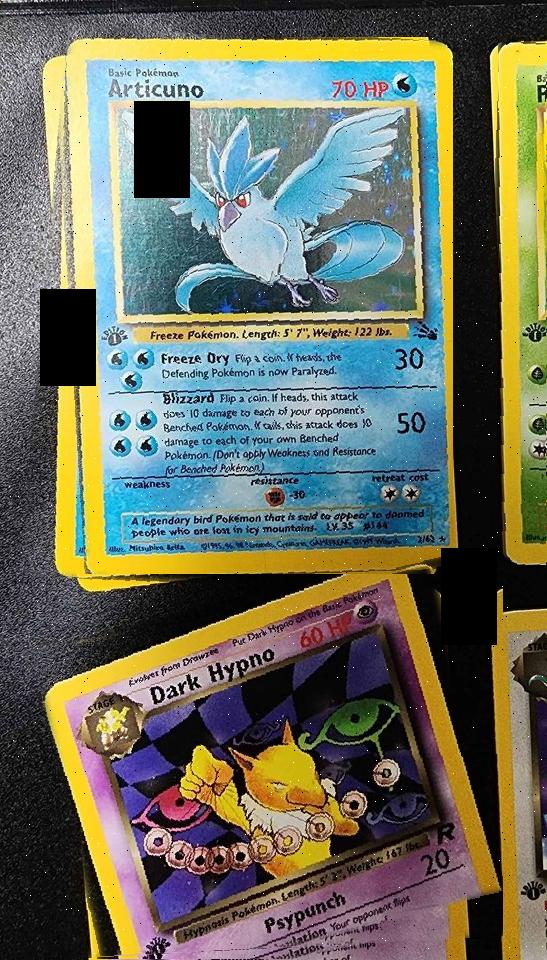card: (66, 37, 453, 579), (44, 574, 503, 956), (499, 42, 546, 565)
